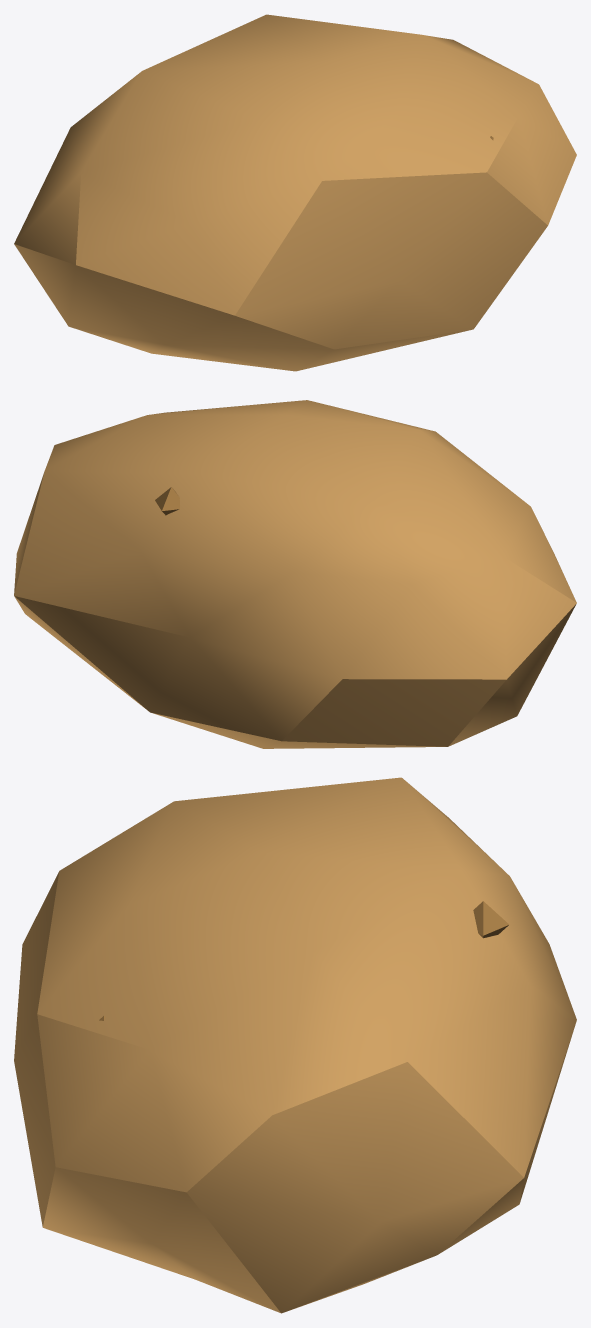
The model's file is Potato.fbx.
The picture shows the model from 3 angles, top to bottom: view 1: azimuth 30°, elevation 25°; view 2: azimuth 150°, elevation 25°; view 3: azimuth 270°, elevation 25°; orthographic projection. The views are drawn at different scales.
Visible parts, largest first — view 1: Potato; view 2: Potato; view 3: Potato.
Boxes of the visible parts, <box> form: Potato: <box>14,14,576,371</box>; Potato: <box>14,400,576,748</box>; Potato: <box>14,777,576,1313</box>.
Bounding box in the file's own units: 1.23 × 0.6666 × 0.8608.
Materials: 1 (1 with a texture image).
